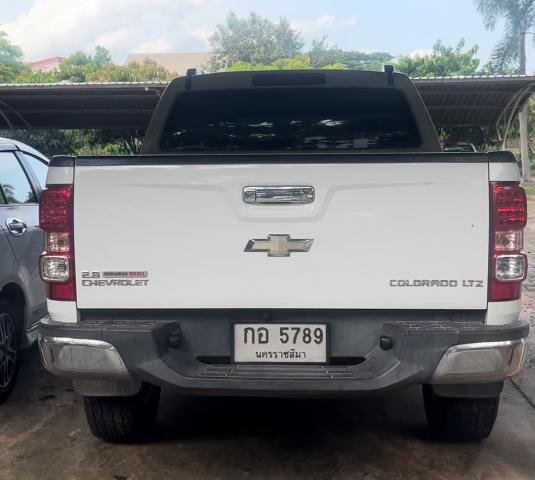pickup-truck: (28, 56, 531, 448)
